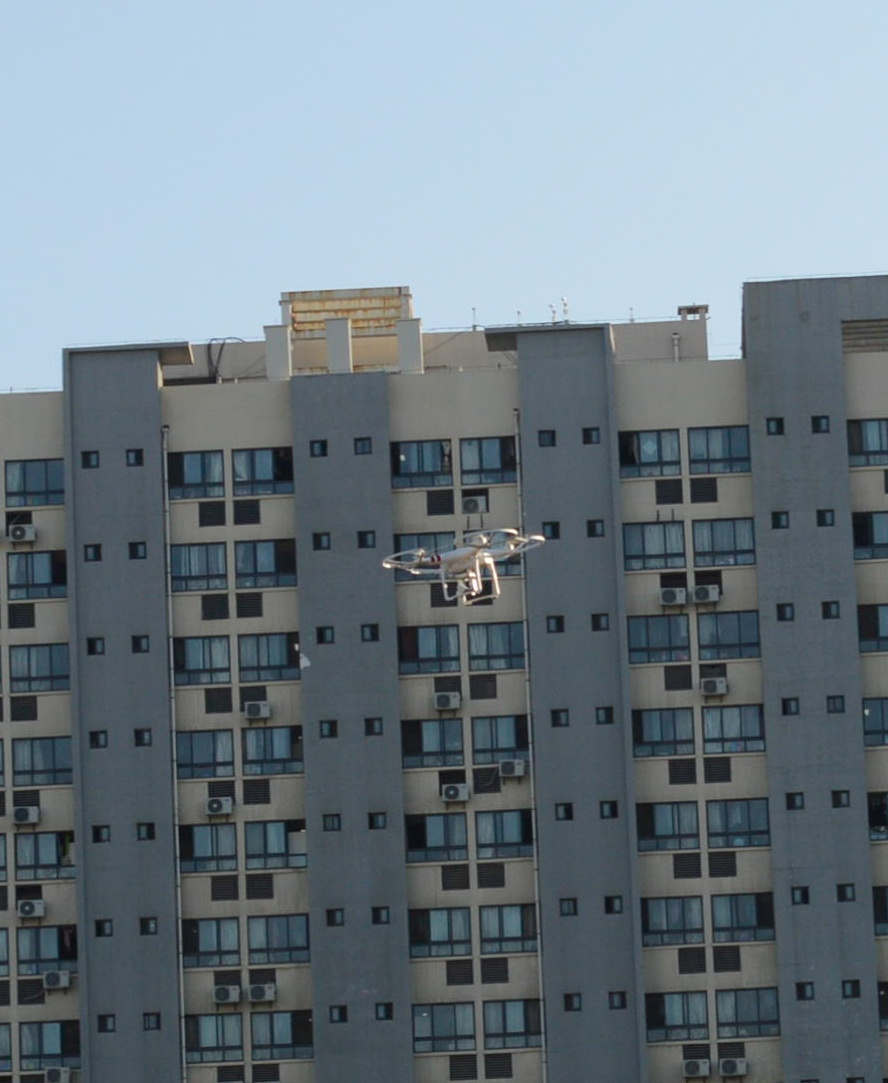DJI: (380, 527, 547, 609)
